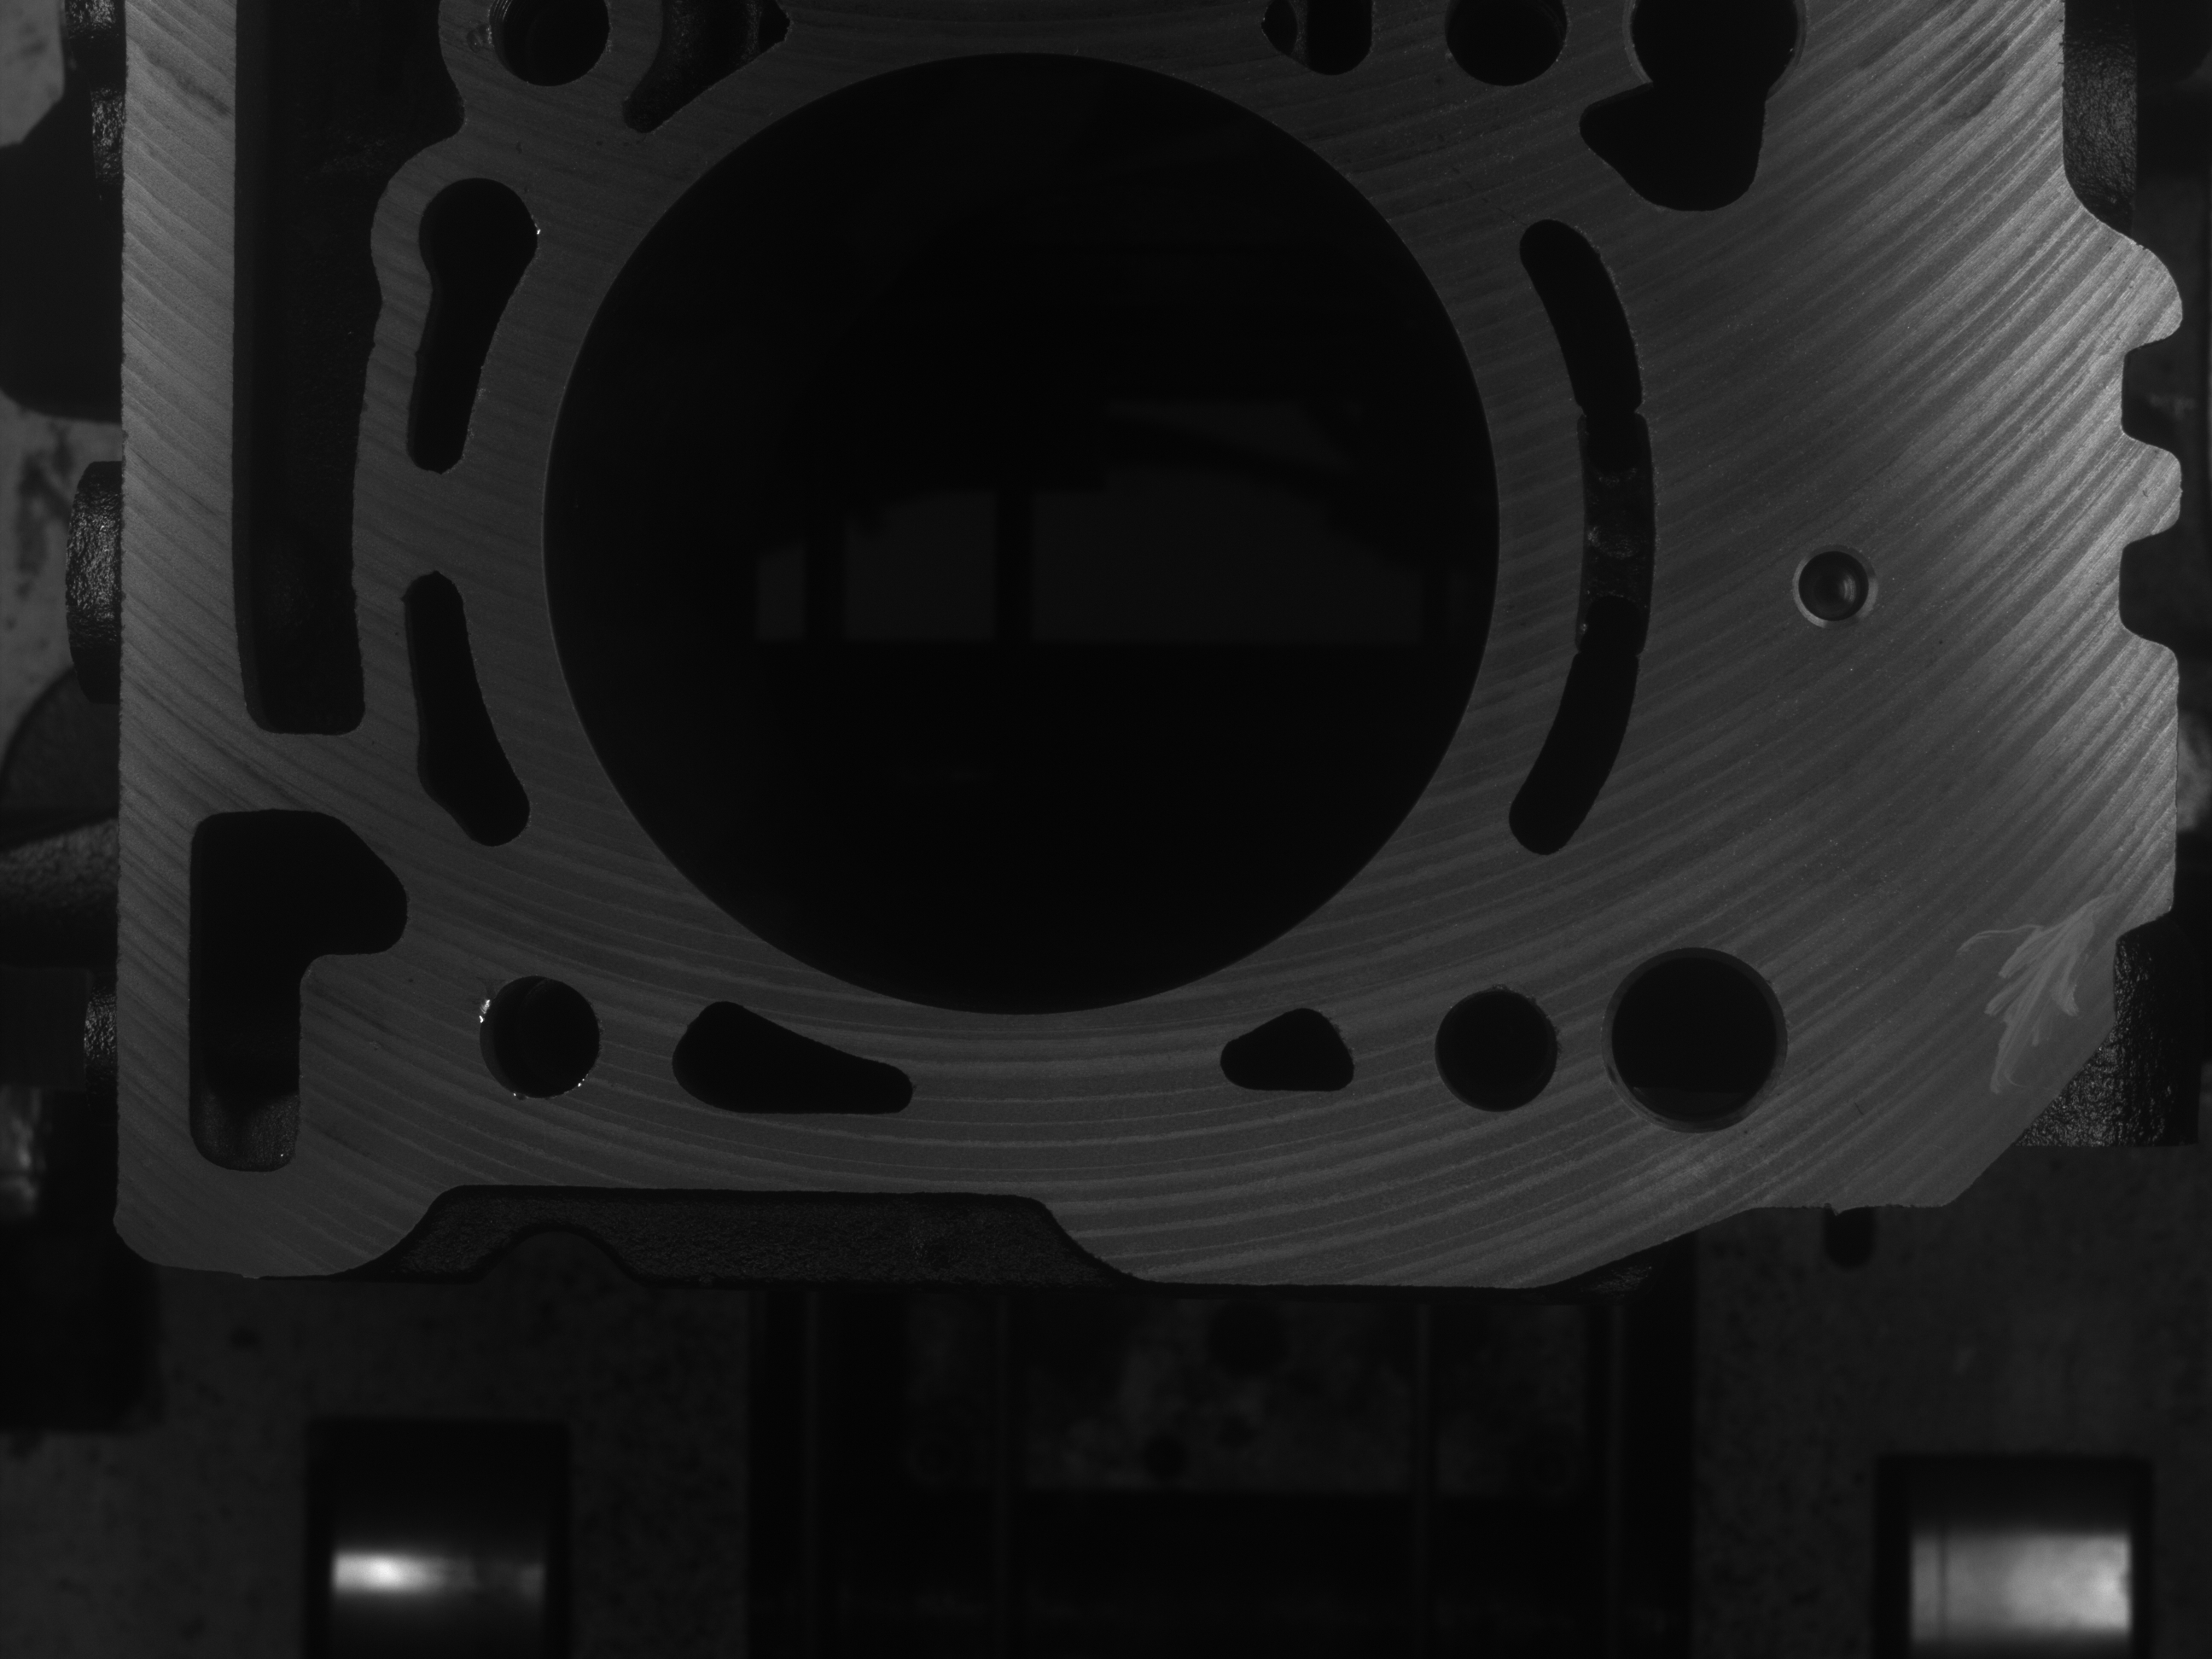dirty: (1972, 864, 2116, 1082)
shrinkage: (456, 14, 498, 52)
